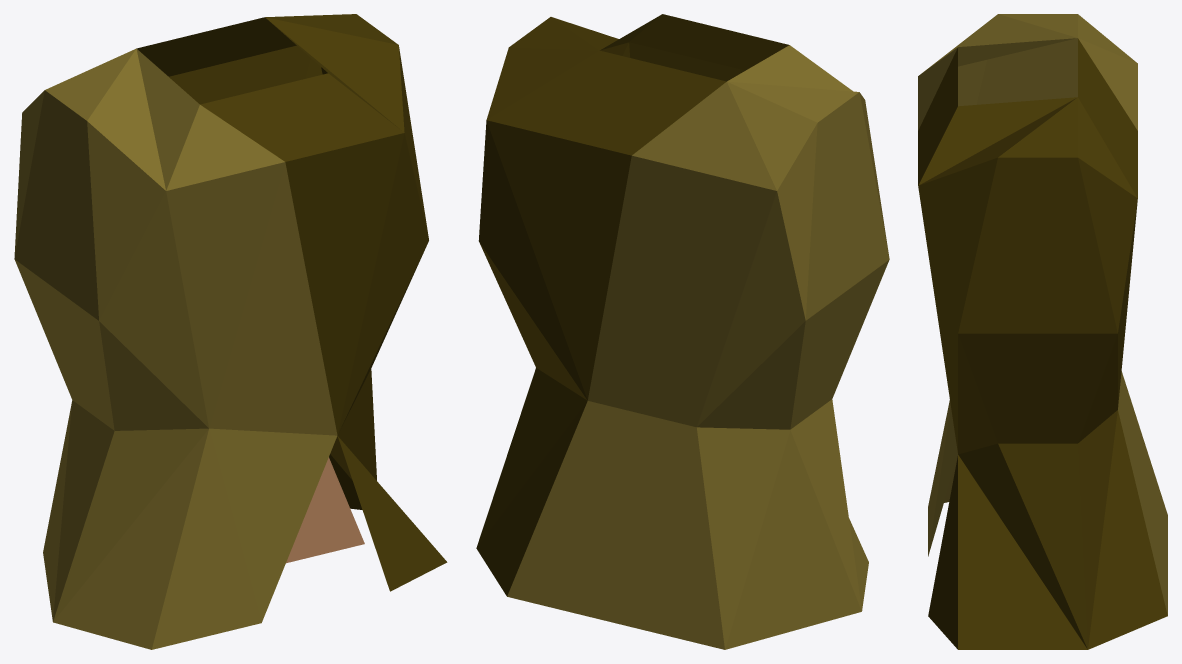
The model's file is model_297_idk.obj.
3 renders of one model, left to right at view 1: azimuth 30°, elevation 25°; view 2: azimuth 150°, elevation 25°; view 3: azimuth 270°, elevation 25°, orthographic. The views are drawn at different scales.
Parts seen in each view (by area): view 1: 297; view 2: 297; view 3: 297.
Boxes of the visible parts, left/top/right/bottom form: 297: left=14, top=14, right=447, bottom=649; 297: left=476, top=14, right=889, bottom=649; 297: left=918, top=14, right=1167, bottom=649.
Bounding box in the file's own units: 39 × 55 × 25.
